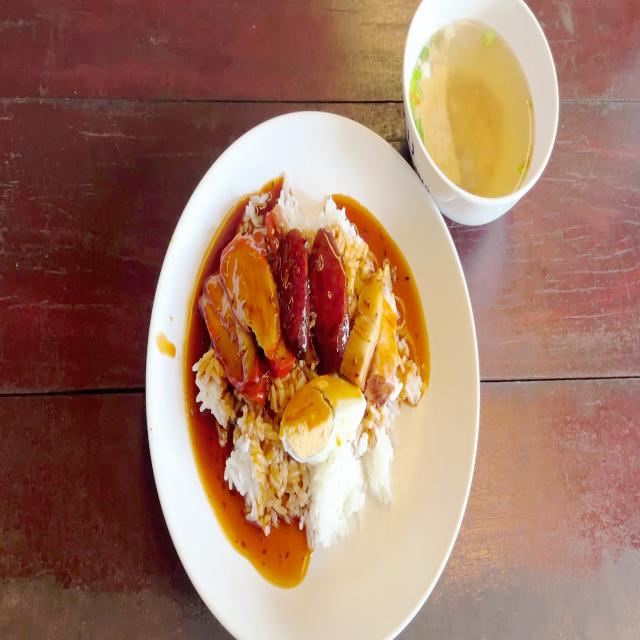boiled_egg: (281, 376, 361, 452)
chainese_sausage: (281, 230, 347, 361)
crispy_pork: (354, 265, 398, 395)
red_pork: (203, 242, 279, 385)
red_pork_and_crispy_pork: (191, 180, 432, 563)
rice: (229, 426, 392, 524)
